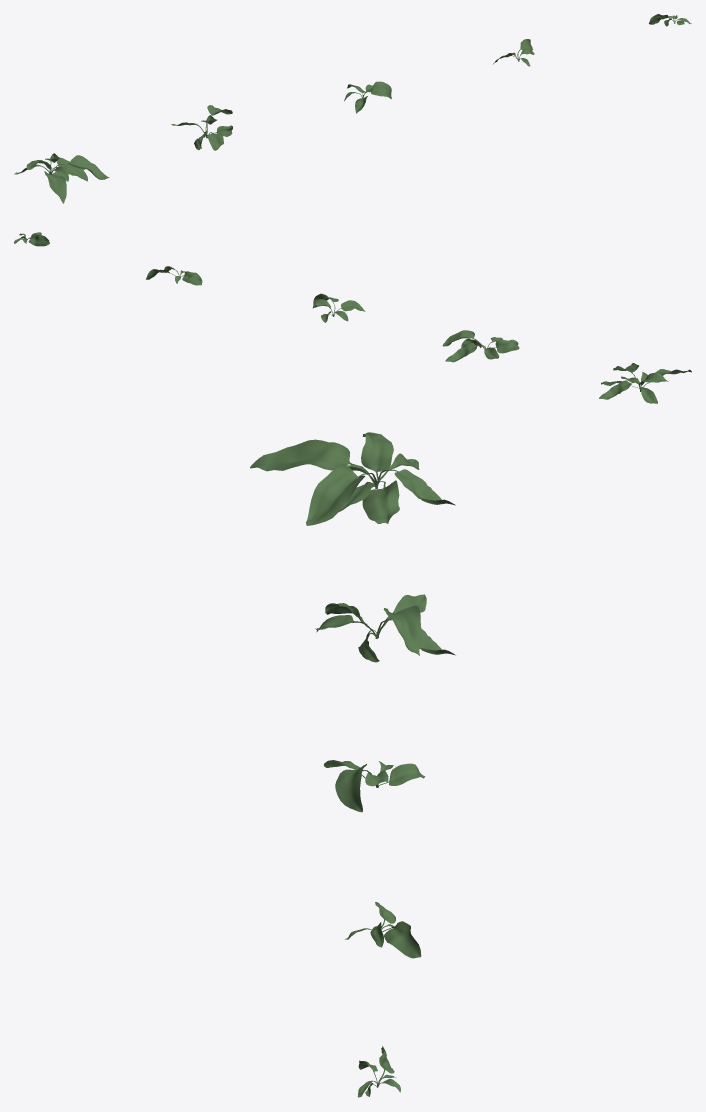
File: plant_weed.glb
3 renders of one model, top to bottom at view 1: azimuth 30°, elevation 25°; view 2: azimuth 150°, elevation 25°; view 3: azimuth 270°, elevation 25°, orthographic. The views are drawn at different scales.
Visible parts, largest first — view 1: weed_plant_02_a_LOD0, weed_plant_02_b_LOD0, weed_plant_02_c_LOD0, weed_plant_02_d_LOD0; view 2: weed_plant_02_a_LOD0, weed_plant_02_b_LOD0, weed_plant_02_c_LOD0, weed_plant_02_d_LOD0, weed_plant_02_e_LOD0; view 3: weed_plant_02_a_LOD0, weed_plant_02_b_LOD0, weed_plant_02_c_LOD0, weed_plant_02_d_LOD0.
Part boxes in pixels (<box>): weed_plant_02_a_LOD0: <box>14,153,109,203</box>; weed_plant_02_b_LOD0: <box>171,105,232,150</box>; weed_plant_02_c_LOD0: <box>344,81,391,113</box>; weed_plant_02_d_LOD0: <box>493,39,534,66</box>; weed_plant_02_a_LOD0: <box>599,363,691,403</box>; weed_plant_02_b_LOD0: <box>442,330,519,362</box>; weed_plant_02_c_LOD0: <box>312,293,365,322</box>; weed_plant_02_d_LOD0: <box>146,266,202,285</box>; weed_plant_02_e_LOD0: <box>14,232,49,246</box>; weed_plant_02_a_LOD0: <box>250,432,455,525</box>; weed_plant_02_b_LOD0: <box>315,594,455,662</box>; weed_plant_02_c_LOD0: <box>324,760,425,812</box>; weed_plant_02_d_LOD0: <box>345,902,421,958</box>.
Bounding box in the file's own units: 33.97 × 1.2 × 4.65.
